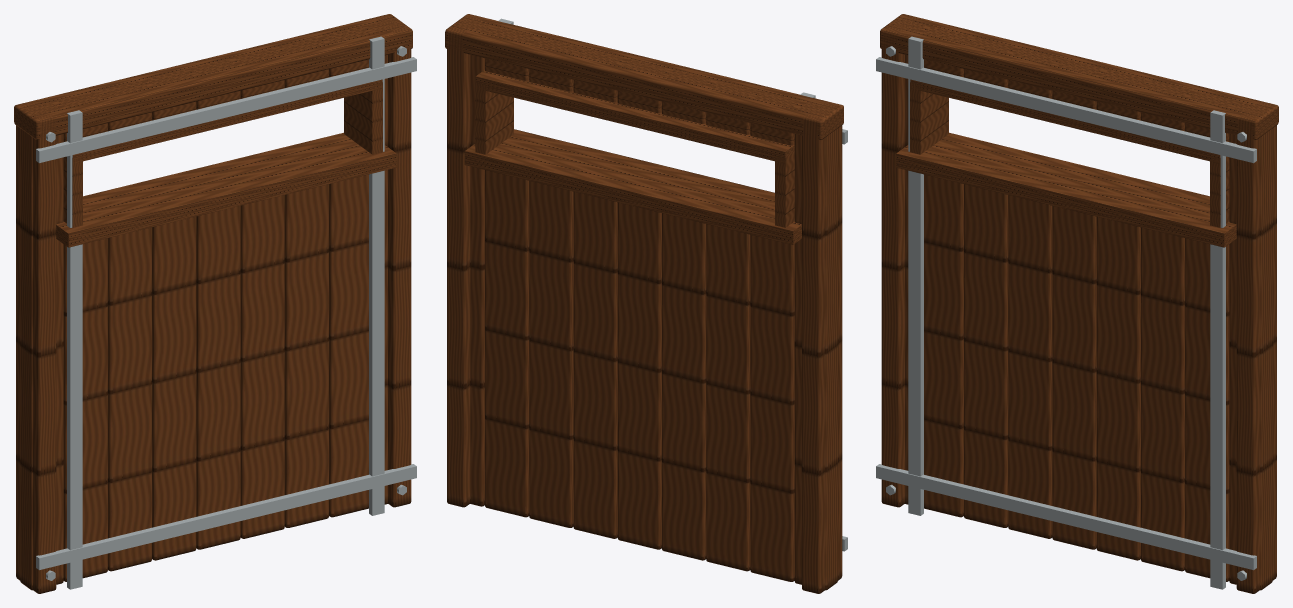
File: modular-survival-base-builder-wall-high-clerestory-rei-214a4d83__24296.glb
3 views of the same model, side by side, from view 1: azimuth 30°, elevation 25°; view 2: azimuth 150°, elevation 25°; view 3: azimuth 330°, elevation 25° (orthographic).
Parts seen in each view (by area): view 1: wall-high-clerestory-reinforced; view 2: wall-high-clerestory-reinforced; view 3: wall-high-clerestory-reinforced.
Boxes of the visible parts, x1,y1,x2,y2 form: wall-high-clerestory-reinforced: (14, 14, 416, 593); wall-high-clerestory-reinforced: (445, 14, 847, 593); wall-high-clerestory-reinforced: (876, 14, 1278, 593).
Size of the model in its own units: 2 by 2.4 by 0.3199.
Materials: 2 (1 with a texture image).
